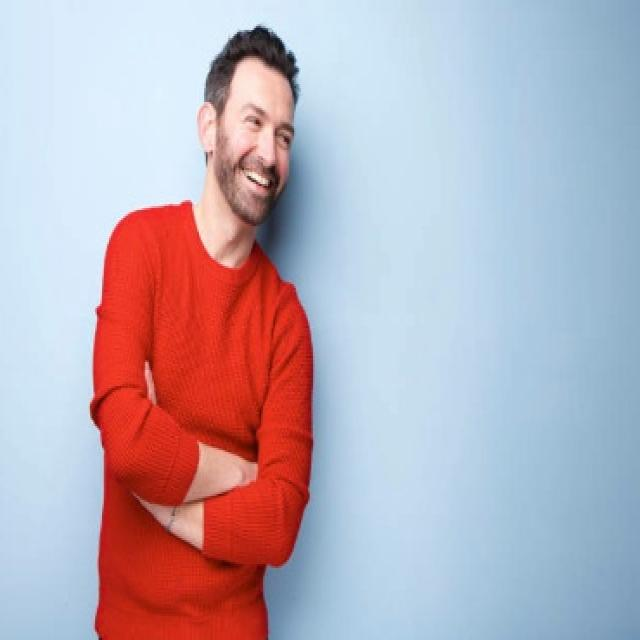adult: (68, 22, 326, 639)
